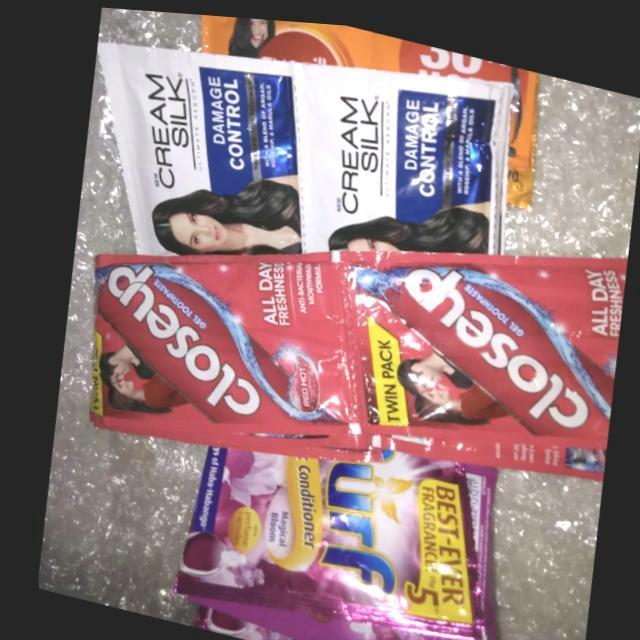plastic_sachet: (199, 12, 539, 201), (169, 442, 492, 632), (334, 245, 625, 441), (85, 245, 350, 429), (98, 41, 305, 250), (291, 58, 510, 247), (177, 571, 488, 640)
